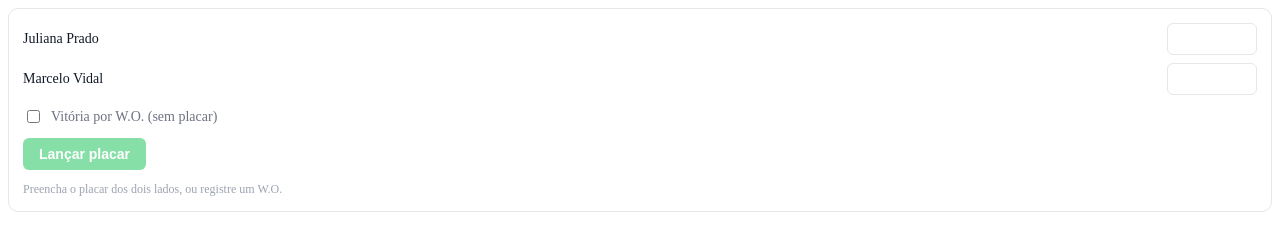
Scenario: LancarPlacar — o que impede o envio › empate é barrado antes de enviar, com a razão explicada
This screenshot has width=1280, height=229.
Type "12" into the number field named "Placar de Juliana Prado" at {"x": 1212, "y": 39}, box 1167,23 -> 1257,55
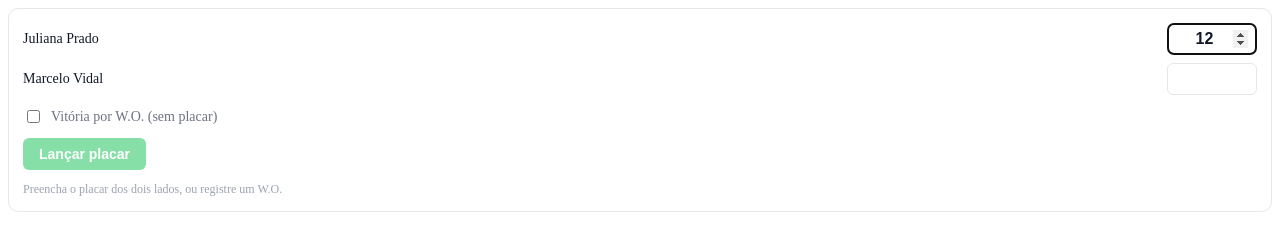
Type "12" into the number field named "Placar de Marcelo Vidal" at {"x": 1212, "y": 79}, box 1167,63 -> 1257,95
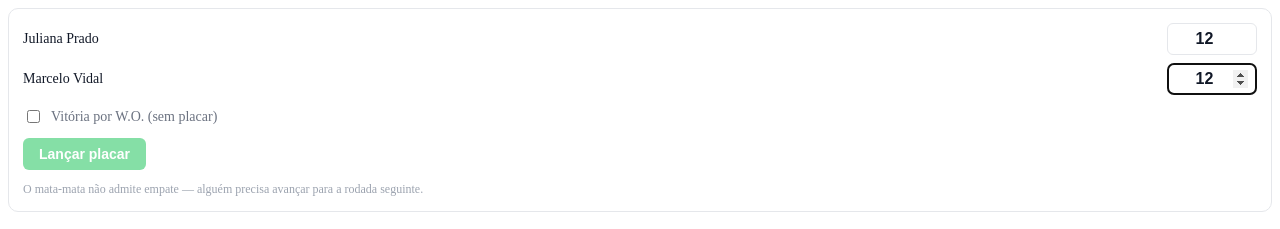
Expected: the button "Lançar placar" is disabled, 23,138 -> 146,170
Now the text "não admite empate" is shown, box 23,182 -> 423,196
